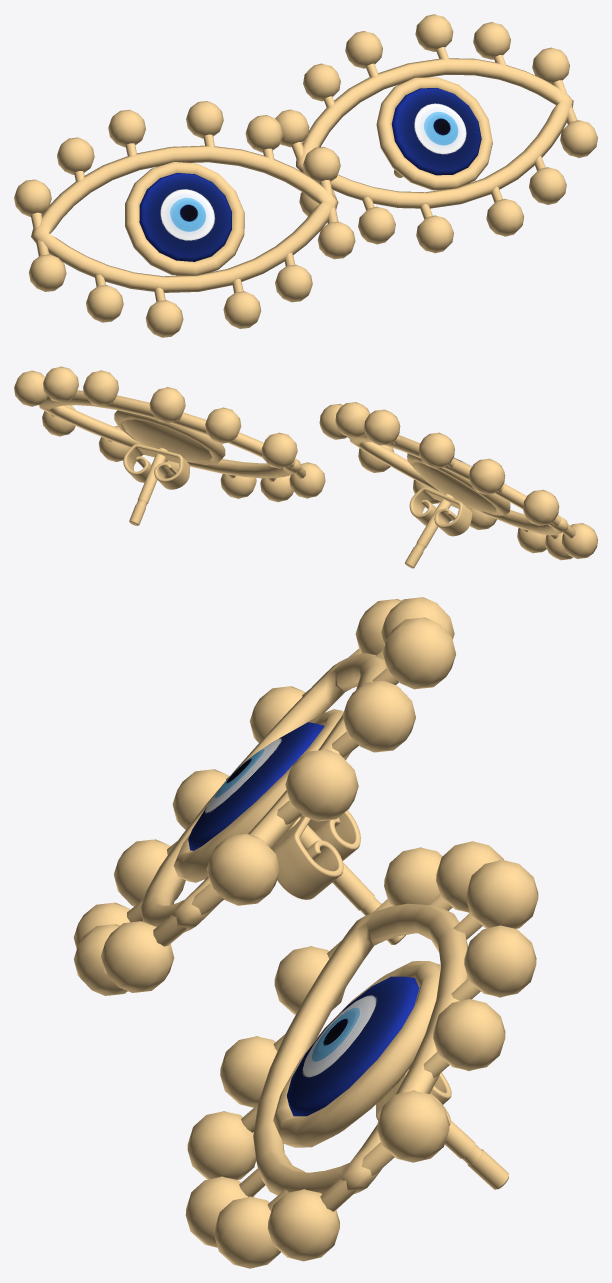
The model's file is EvilEyeEarring.glb.
3 renders of one model, top to bottom at view 1: azimuth 30°, elevation 25°; view 2: azimuth 150°, elevation 25°; view 3: azimuth 270°, elevation 25°, orthographic. The views are drawn at different scales.
Parts seen in each view (by area): view 1: Evil Eye.001, Evil Eye; view 2: Evil Eye, Evil Eye.001; view 3: Evil Eye, Evil Eye.001.
Boxes of the visible parts, <box> form: Evil Eye.001: <box>14,101,355,337</box>; Evil Eye: <box>275,14,597,253</box>; Evil Eye: <box>14,366,325,525</box>; Evil Eye.001: <box>319,402,597,568</box>; Evil Eye: <box>185,841,538,1268</box>; Evil Eye.001: <box>73,597,456,995</box>.
Bounding box in the file's own units: 11.41 × 3.17 × 4.2.
Materials: 2 (1 with a texture image).
